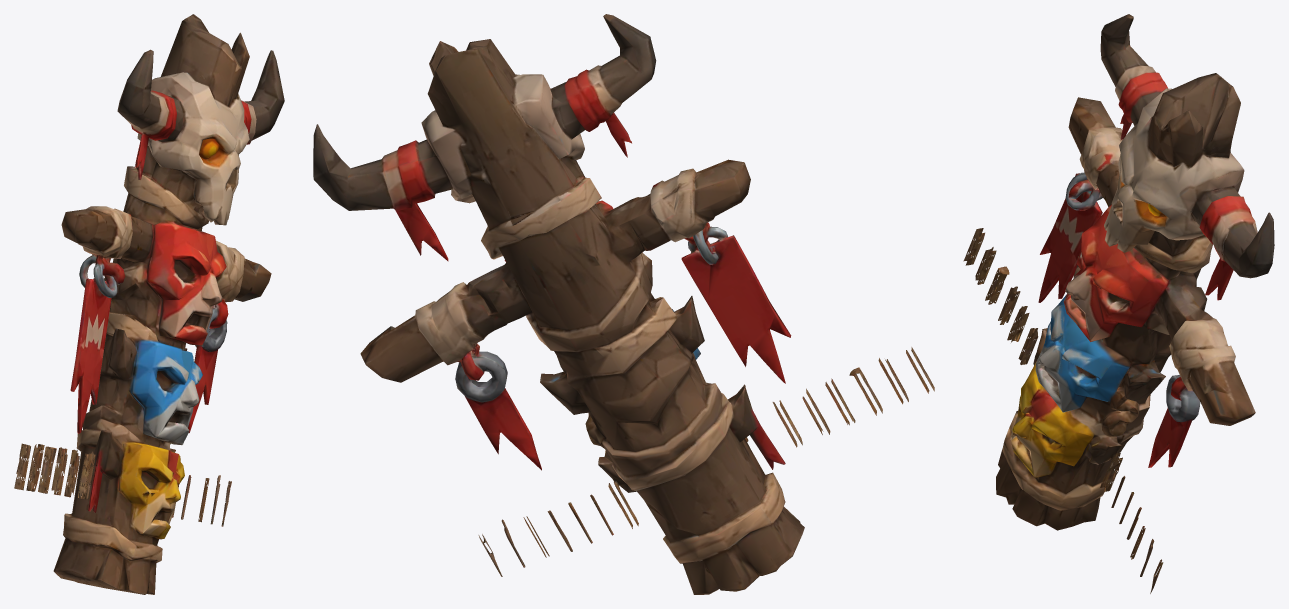
File: bld_totem.glb
The picture shows the model from 3 angles, left to right: view 1: azimuth 30°, elevation 25°; view 2: azimuth 150°, elevation 25°; view 3: azimuth 270°, elevation 25°; orthographic projection. The views are drawn at different scales.
Parts seen in each view (by area): view 1: BakeLow; view 2: BakeLow; view 3: BakeLow.
Boxes of the visible parts, left/top/right/bottom form: BakeLow: left=14, top=14, right=284, bottom=594; BakeLow: left=313, top=14, right=934, bottom=594; BakeLow: left=963, top=14, right=1274, bottom=593.
Size of the model in its own units: 0.7224 by 0.8631 by 0.4537.
1 material, 1 textured.
